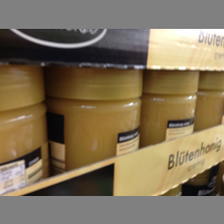honey: (46, 65, 145, 175), (147, 69, 198, 154)
